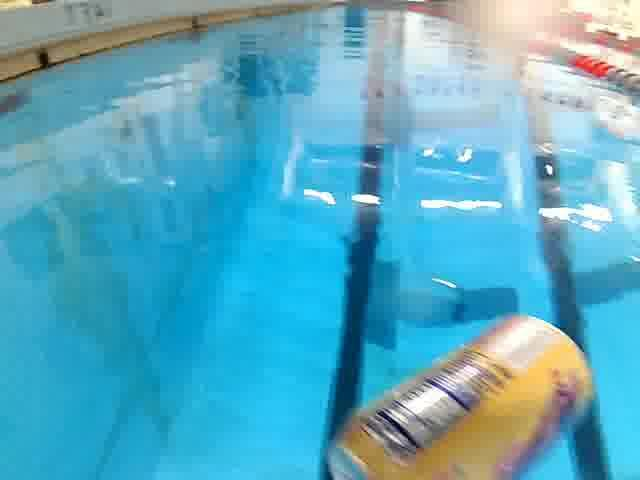Can: (316, 299, 623, 480)
